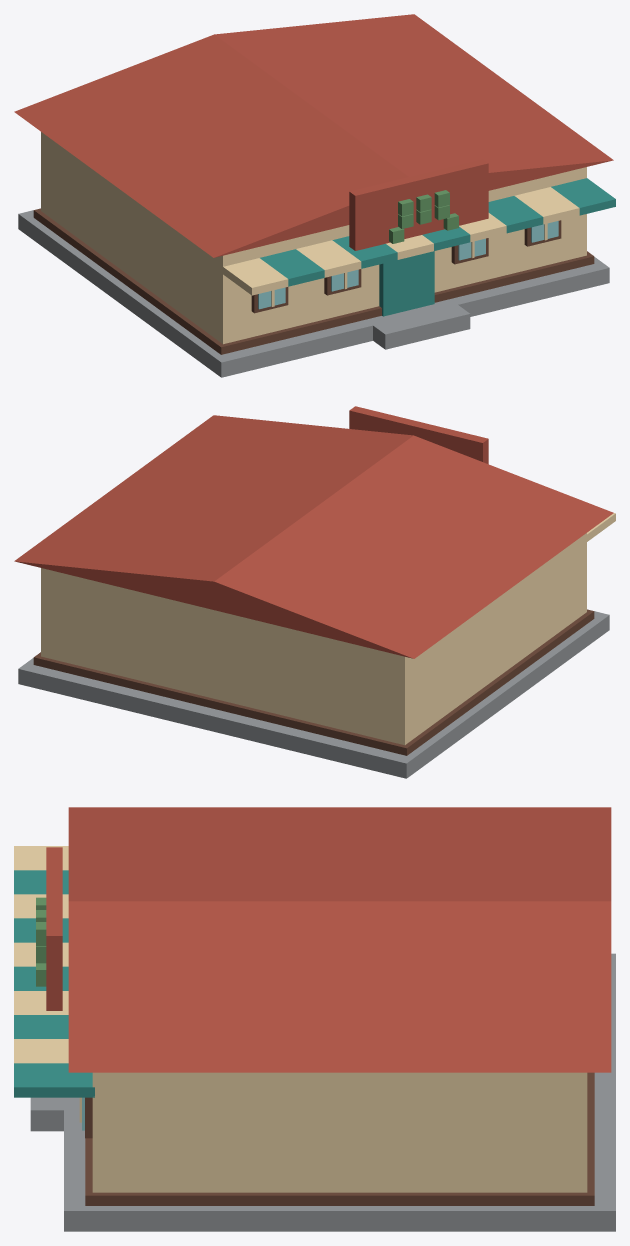
Rendered from arcade.glb.
3 renders of one model, top to bottom at view 1: azimuth 30°, elevation 25°; view 2: azimuth 150°, elevation 25°; view 3: azimuth 270°, elevation 25°, orthographic. The views are drawn at different scales.
Visible parts, largest first — view 1: gable_roof, walls, foundation, signboard, cornice, step, door, awning, awning.002, awning.001, awning.008, awning.009 (+5 smaller); view 2: gable_roof, walls, foundation, cornice, signboard; view 3: gable_roof, walls, foundation, cornice, signboard, awning.009, awning.008, awning.007, step, awning, awning.006, awning.001 (+4 smaller).
Part boxes in pixels (x1=…): gable_roof: x1=14, y1=14, x2=613, y2=257; walls: x1=41, y1=132, x2=586, y2=344; foundation: x1=18, y1=210, x2=609, y2=377; signboard: x1=349, y1=159, x2=488, y2=250; cornice: x1=33, y1=208, x2=594, y2=354; step: x1=366, y1=299, x2=470, y2=349; door: x1=379, y1=251, x2=434, y2=316; awning: x1=222, y1=258, x2=288, y2=295; awning.002: x1=296, y1=240, x2=361, y2=277; awning.001: x1=260, y1=249, x2=324, y2=286; awning.008: x1=514, y1=187, x2=579, y2=224; awning.009: x1=551, y1=178, x2=615, y2=215; gable_roof: x1=14, y1=415, x2=613, y2=658; walls: x1=41, y1=533, x2=586, y2=745; foundation: x1=18, y1=611, x2=609, y2=778; cornice: x1=33, y1=609, x2=594, y2=755; signboard: x1=349, y1=406, x2=488, y2=464; gable_roof: x1=68, y1=807, x2=611, y2=1072; walls: x1=92, y1=1072, x2=587, y2=1192; foundation: x1=64, y1=953, x2=615, y2=1231; cornice: x1=85, y1=1072, x2=594, y2=1205; signboard: x1=46, y1=847, x2=62, y2=1010; awning.009: x1=14, y1=1063, x2=94, y2=1097; awning.008: x1=14, y1=1039, x2=68, y2=1063; awning.007: x1=14, y1=1015, x2=68, y2=1038; step: x1=30, y1=1097, x2=78, y2=1131; awning: x1=14, y1=846, x2=68, y2=870; awning.006: x1=14, y1=991, x2=68, y2=1014; awning.001: x1=14, y1=870, x2=68, y2=894.
Size of the model in its own units: 6.6 by 2.45 by 6.33.
